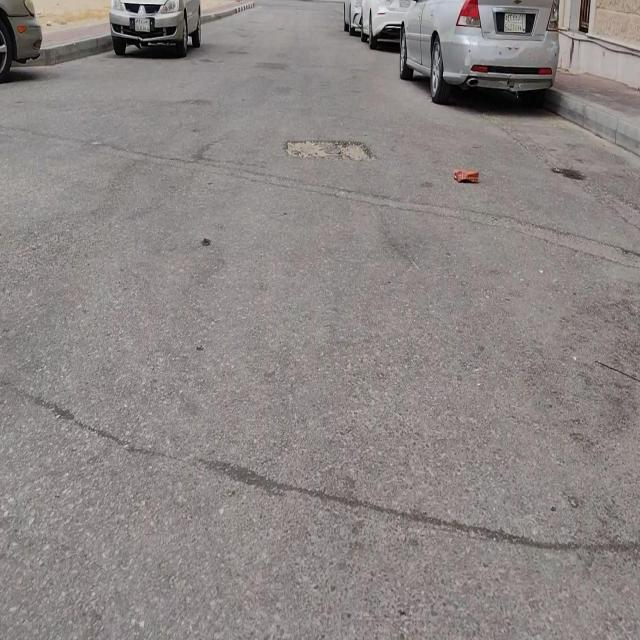Potholes: (285, 140, 373, 160)
